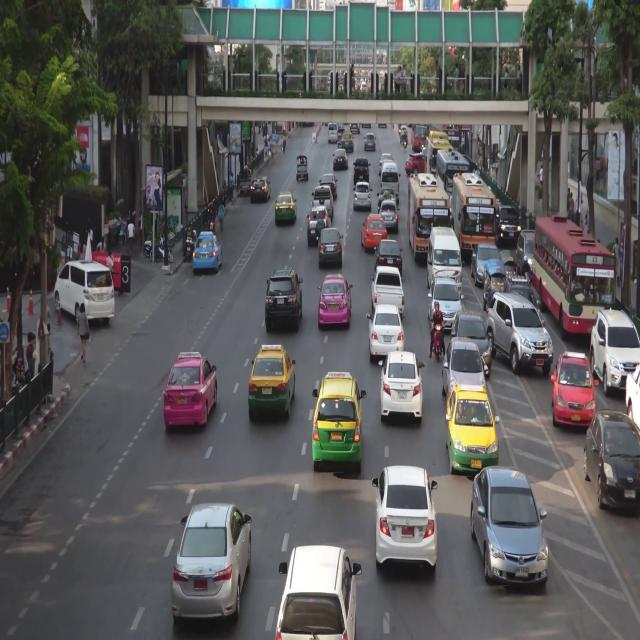bus: (535, 213, 615, 336), (407, 175, 452, 261), (452, 174, 496, 257), (438, 146, 468, 215), (425, 131, 450, 180), (412, 124, 428, 151)
car: (471, 466, 550, 590), (175, 504, 252, 624), (278, 544, 358, 640), (376, 464, 437, 576), (584, 409, 640, 515), (488, 292, 555, 376), (592, 311, 640, 394), (54, 264, 116, 326), (381, 351, 425, 421), (444, 341, 488, 404), (452, 313, 490, 375), (265, 269, 304, 329), (430, 233, 463, 293), (369, 307, 405, 361), (430, 281, 464, 330), (373, 267, 404, 316), (472, 240, 502, 286), (506, 277, 538, 319), (376, 239, 403, 280), (496, 203, 521, 245), (318, 226, 343, 267), (624, 363, 640, 426), (483, 261, 503, 307), (308, 206, 332, 243), (499, 247, 519, 288), (520, 229, 536, 277), (311, 185, 334, 218), (380, 165, 399, 201), (353, 182, 371, 213), (379, 201, 397, 231), (251, 174, 268, 204), (405, 151, 428, 173), (378, 187, 396, 212), (321, 172, 337, 200), (295, 152, 309, 184), (353, 158, 371, 180), (333, 146, 347, 172), (329, 121, 343, 142), (239, 170, 252, 192), (381, 153, 393, 176), (364, 133, 377, 153)
pedestrian: (77, 304, 90, 364), (612, 236, 622, 282), (26, 332, 35, 378), (129, 216, 136, 258), (217, 199, 225, 234), (107, 252, 115, 286), (97, 236, 107, 258), (228, 171, 234, 204), (78, 239, 87, 258), (568, 184, 573, 215), (264, 133, 270, 156), (539, 163, 544, 189), (282, 134, 287, 157), (224, 178, 228, 198), (271, 145, 275, 162)
taxi: (444, 386, 500, 474), (312, 372, 363, 466), (165, 354, 219, 432), (554, 349, 598, 429), (249, 344, 295, 418), (319, 275, 352, 327), (193, 230, 223, 273), (362, 214, 388, 253), (275, 192, 297, 226), (342, 131, 354, 152)
